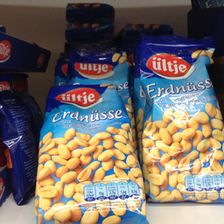nuts: (35, 83, 147, 224), (135, 32, 224, 204)
